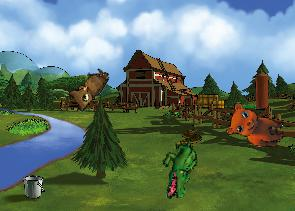bear: (225, 101, 287, 148)
crocodile: (158, 136, 202, 200)
owl: (63, 60, 111, 114)
